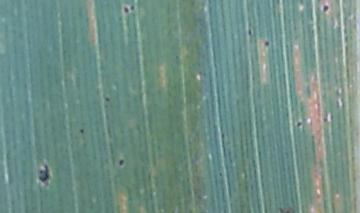tarspot: (35, 158, 51, 188), (320, 4, 331, 13), (117, 158, 126, 168), (247, 28, 255, 38), (296, 121, 304, 130), (129, 3, 136, 12), (264, 40, 271, 49), (322, 116, 329, 125), (122, 4, 128, 14), (78, 128, 86, 135), (104, 96, 112, 103)
